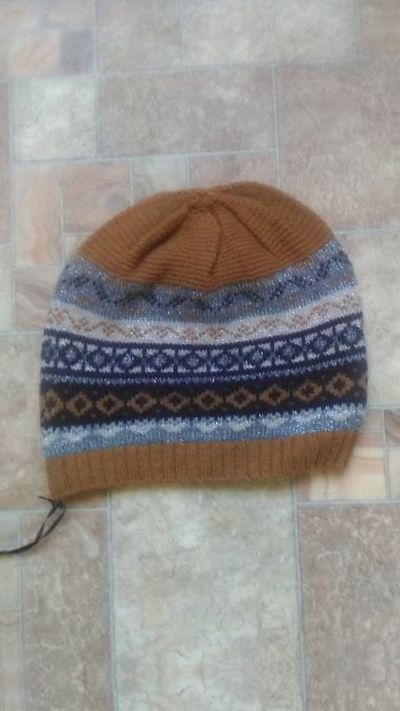Hat: (0, 137, 393, 556)
